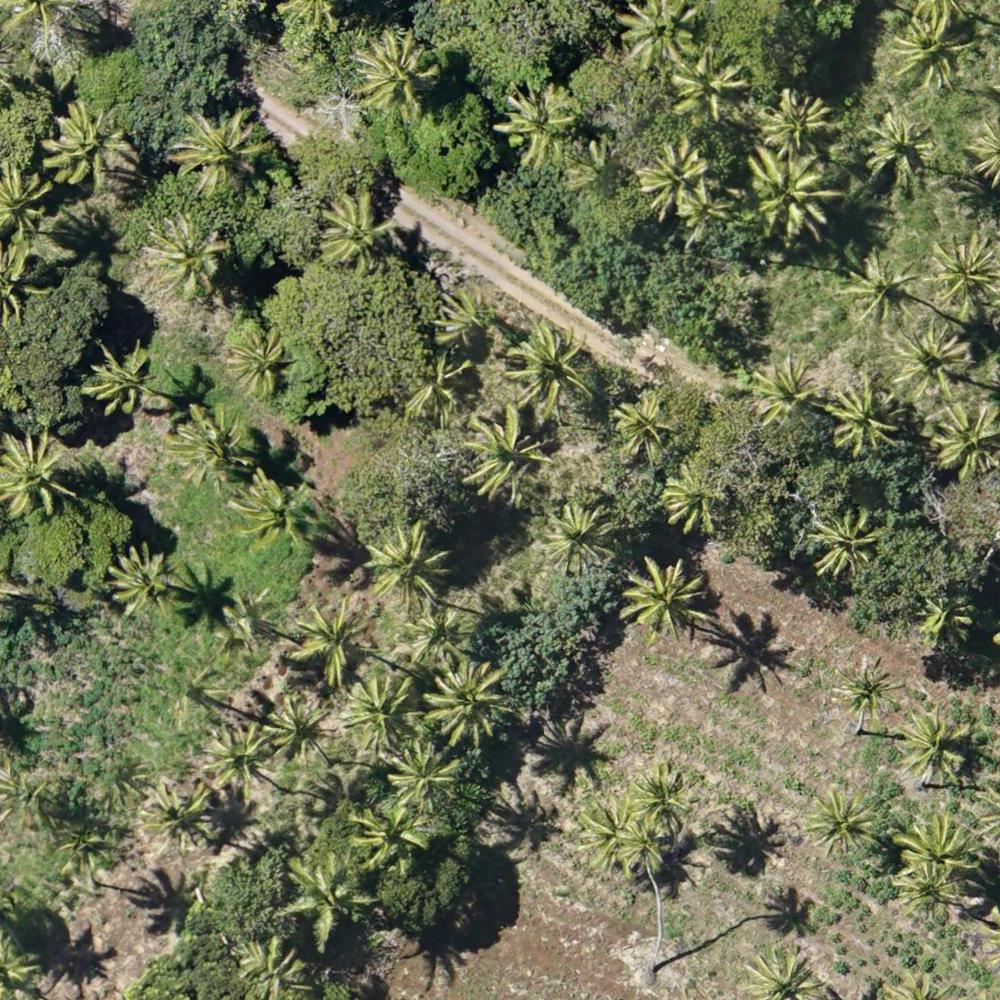Palm: (508, 317, 596, 417), (745, 149, 831, 240), (355, 31, 442, 117), (285, 850, 370, 934), (174, 111, 261, 193), (147, 213, 229, 299), (425, 666, 515, 742), (232, 467, 314, 550), (623, 557, 706, 639), (369, 526, 449, 611), (1, 429, 79, 515), (466, 417, 543, 504), (500, 81, 576, 168), (47, 104, 124, 183), (891, 18, 970, 93), (170, 404, 250, 478), (620, 1, 702, 72), (321, 194, 398, 269), (890, 322, 965, 399), (928, 233, 1000, 312), (898, 706, 972, 781), (826, 378, 899, 454), (671, 51, 749, 121), (543, 502, 615, 577), (898, 812, 975, 882), (293, 606, 367, 677), (351, 802, 425, 872), (933, 401, 1000, 476), (405, 348, 470, 425), (862, 111, 933, 181), (87, 340, 155, 413), (641, 142, 711, 212), (761, 86, 833, 154), (226, 326, 292, 399), (139, 782, 212, 847), (580, 798, 642, 872), (108, 542, 171, 614), (349, 679, 415, 747), (848, 255, 912, 324), (812, 508, 876, 576), (836, 658, 904, 722), (392, 745, 462, 807), (662, 465, 726, 531), (750, 361, 812, 428), (631, 762, 695, 826), (267, 693, 330, 758), (809, 790, 871, 855), (207, 727, 270, 790), (408, 607, 470, 671), (219, 589, 280, 650), (616, 395, 674, 459), (680, 181, 735, 242), (435, 288, 491, 345), (902, 859, 958, 916), (54, 822, 113, 875), (922, 595, 974, 648), (619, 825, 664, 873)
